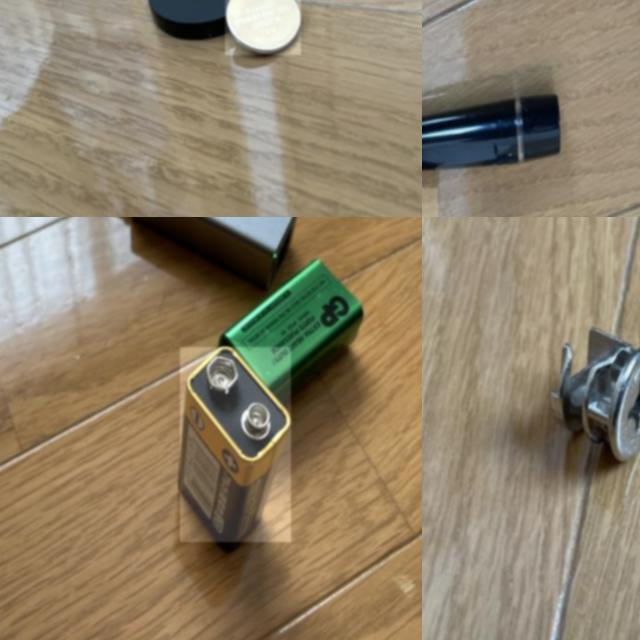9V: (217, 259, 364, 409), (180, 347, 291, 542)
